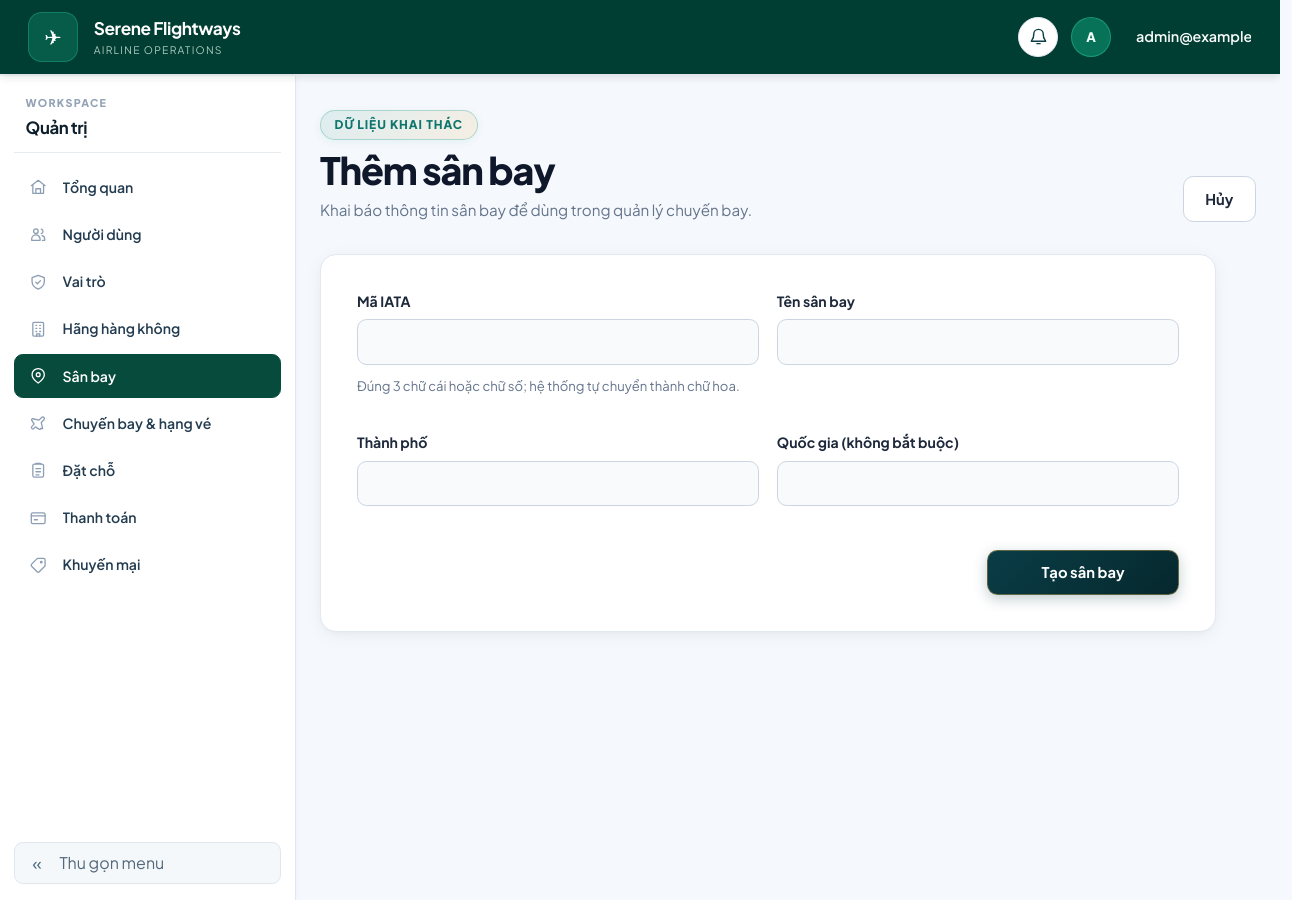
Scenario: Airline and Airport administration › shows backend duplicate Airport field details from HTTP 409
Expected: the heading "Thêm sân bay" is shown, [320,146,555,193]
Type "DAD" into the field labelled "Mã IATA" at (558, 342), box [357,319,759,365]
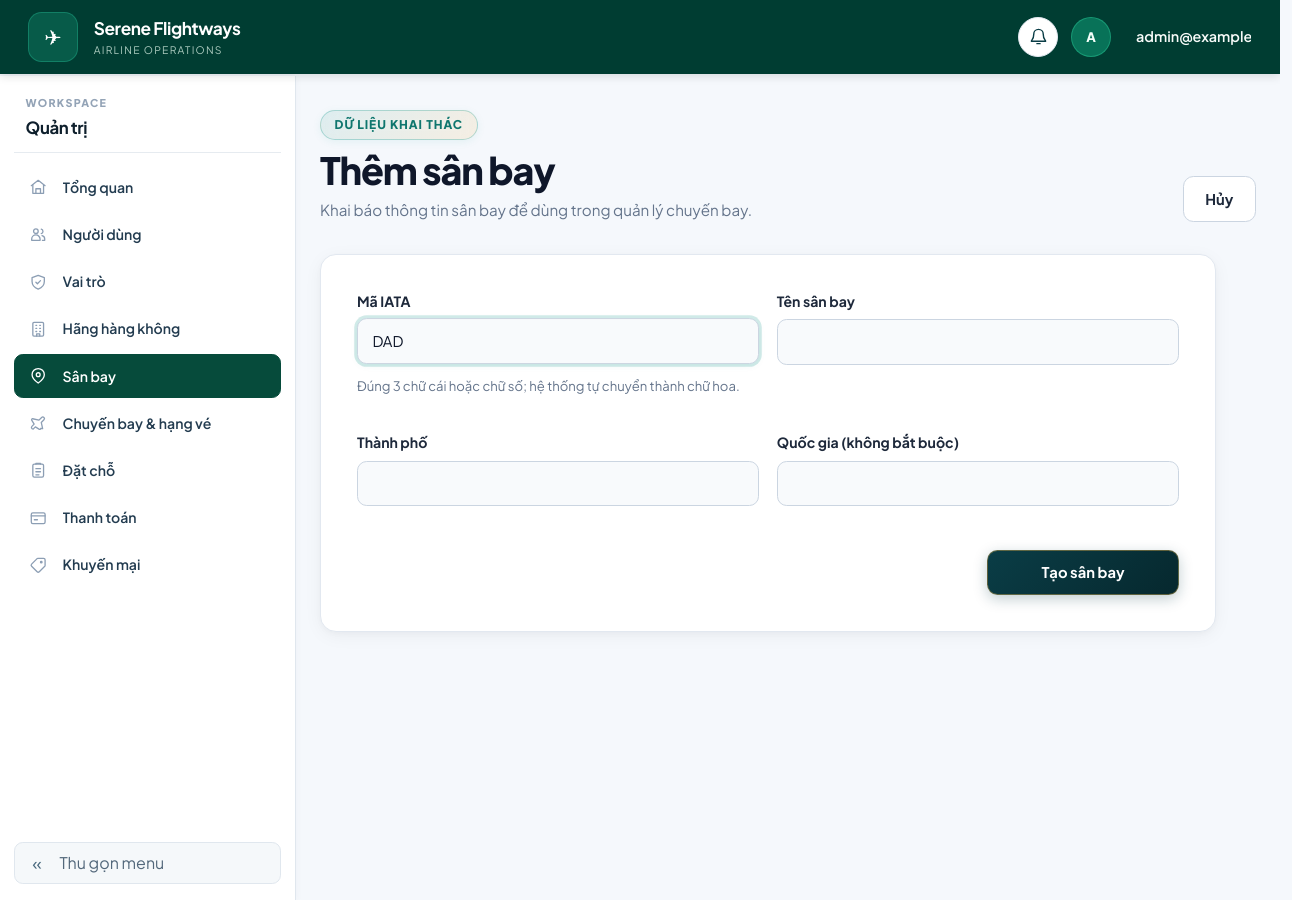
Type "Đà Nẵng" into the field labelled "Tên sân bay" at (978, 342), box [777,319,1179,365]
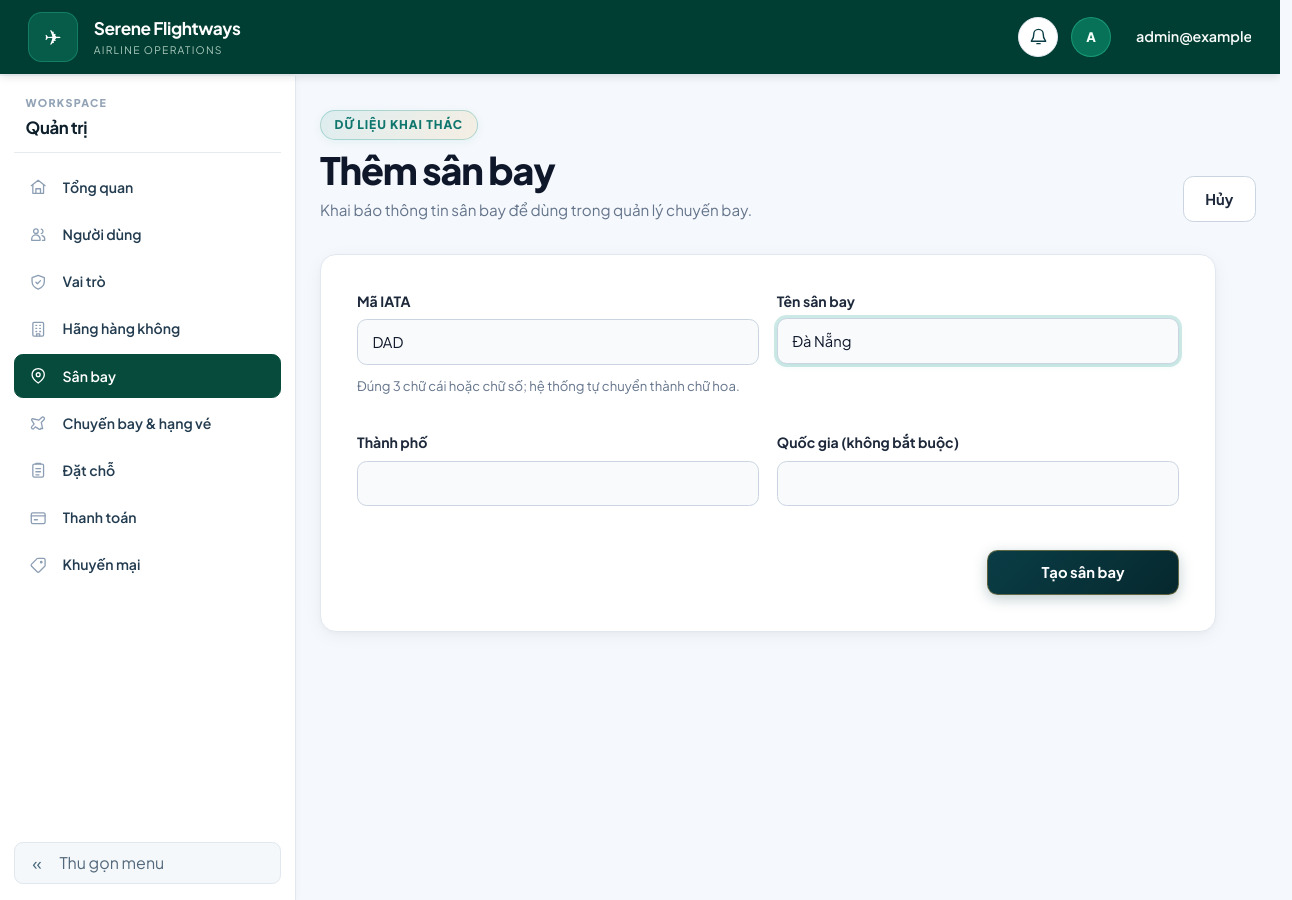
Type "Đà Nẵng" into the field labelled "Thành phố" at (558, 484), box [357,461,759,506]
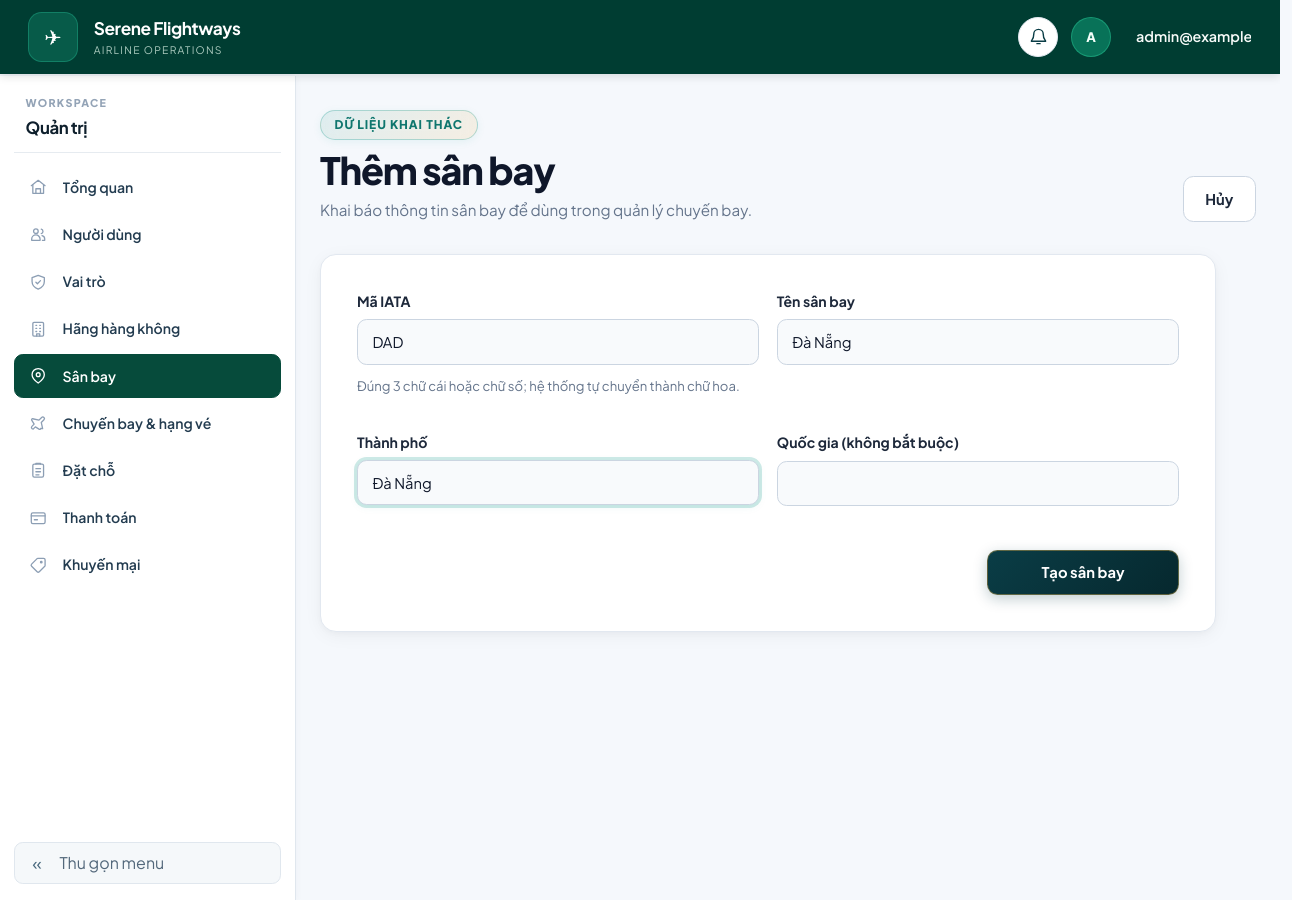
Click the button "Tạo sân bay" at (1083, 572), box [987,550,1179,595]
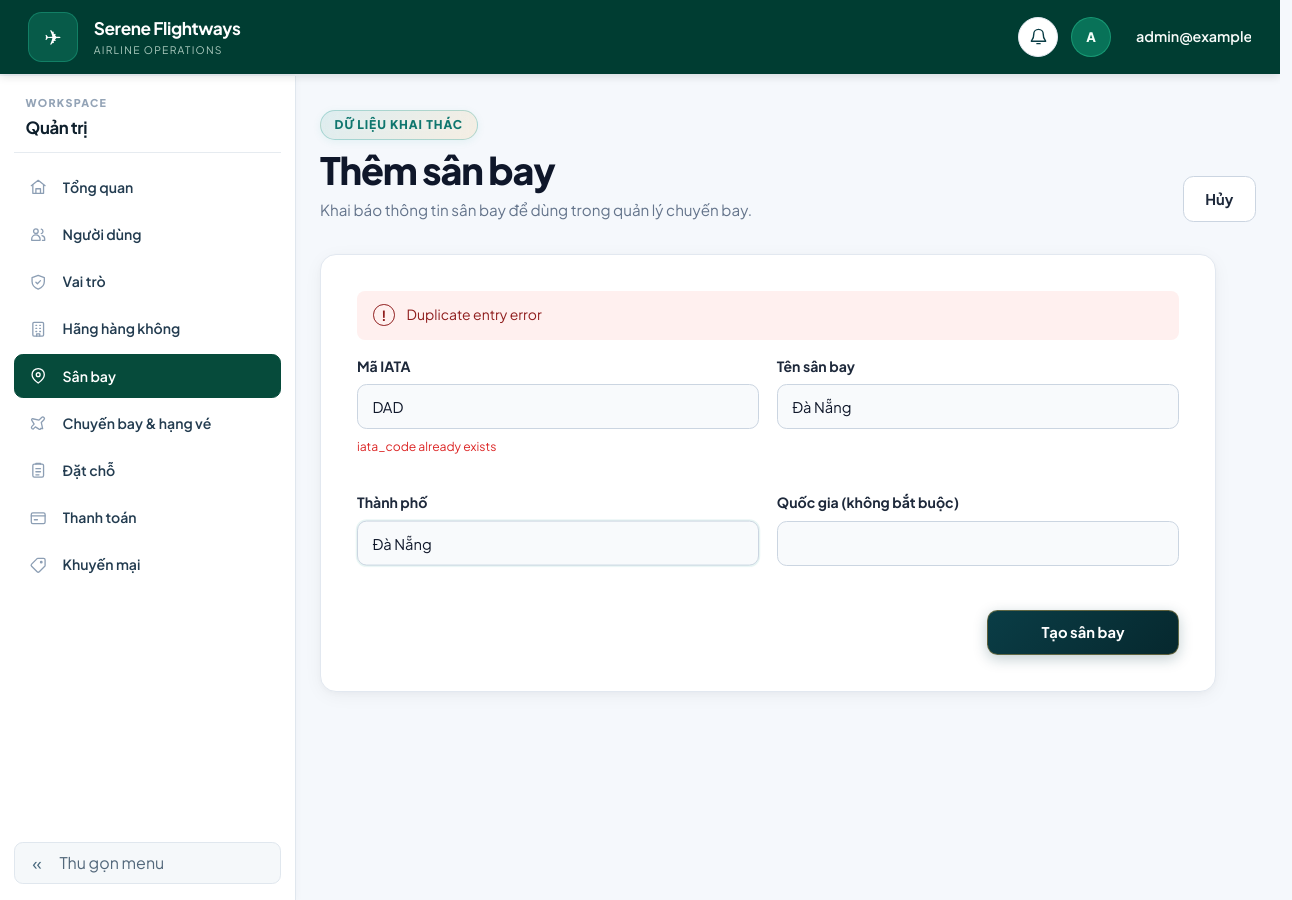
Expected: the text "iata_code already exists" is shown, [357,438,496,454]
